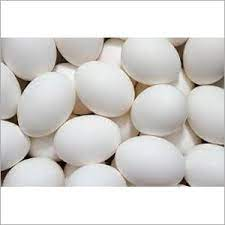eggs: (56, 109, 124, 161), (76, 61, 132, 121), (127, 77, 186, 131), (118, 135, 181, 184), (11, 78, 62, 129), (2, 40, 53, 74)
